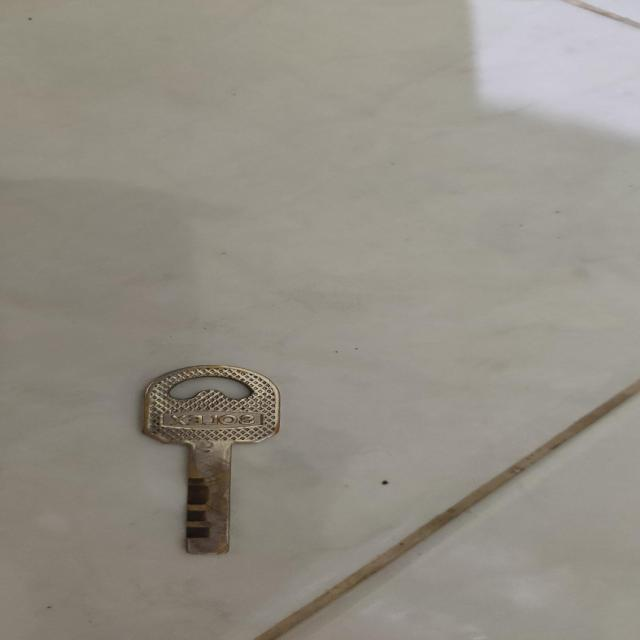kunci_pagar: (120, 361, 296, 571)
